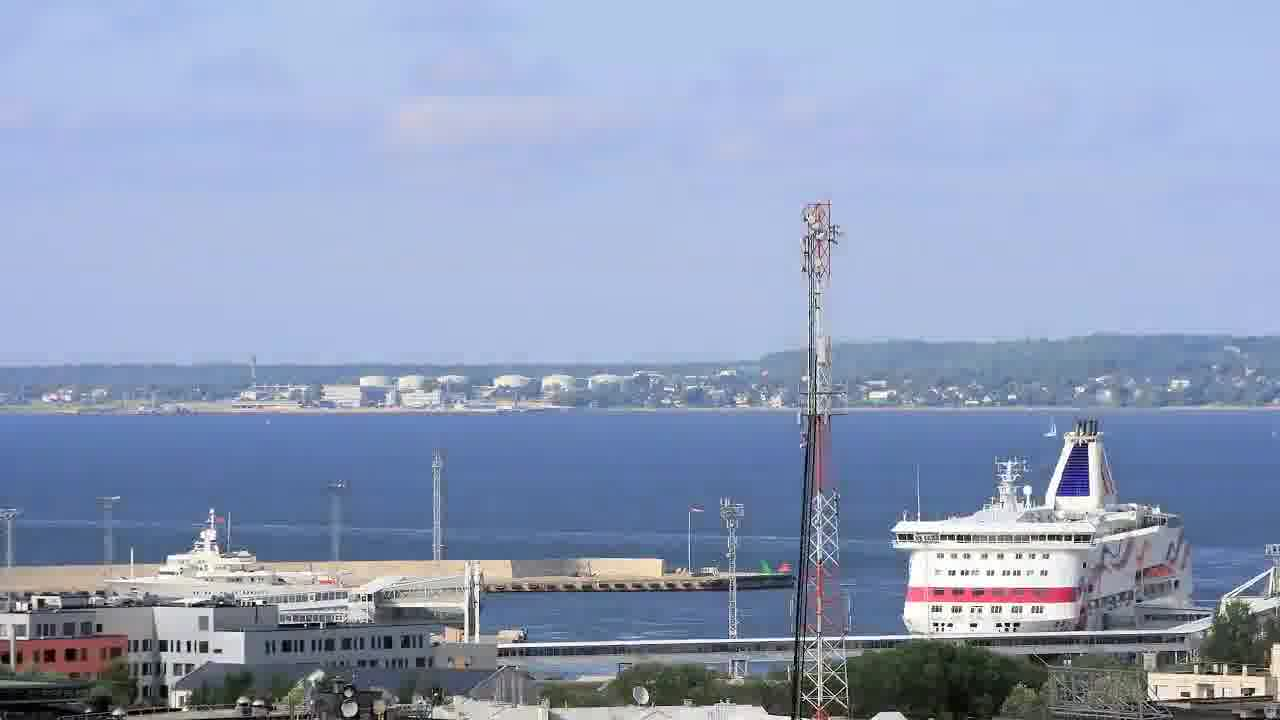type-2: (1037, 401, 1064, 450)
type-3: (868, 415, 1225, 638), (84, 511, 353, 609)
